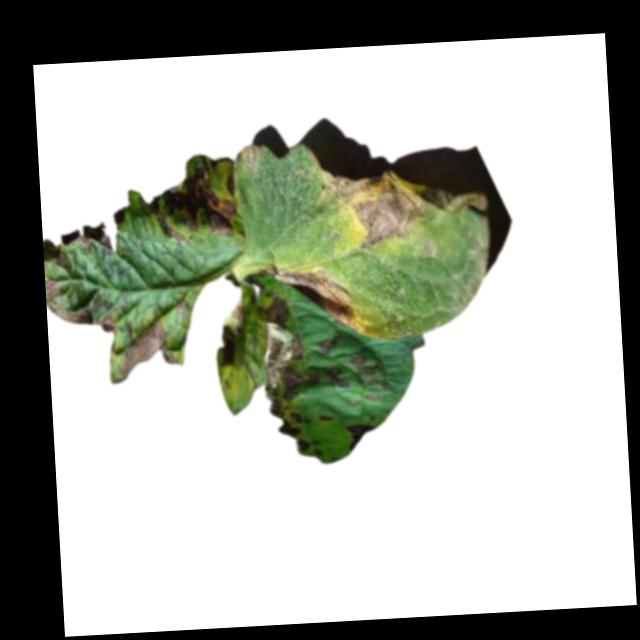Early_blight: (257, 296, 348, 418), (326, 167, 430, 254), (148, 165, 238, 249), (262, 260, 355, 330), (115, 311, 179, 383), (46, 276, 116, 334), (344, 422, 379, 455), (217, 326, 235, 371), (277, 415, 303, 438), (73, 235, 92, 255)
